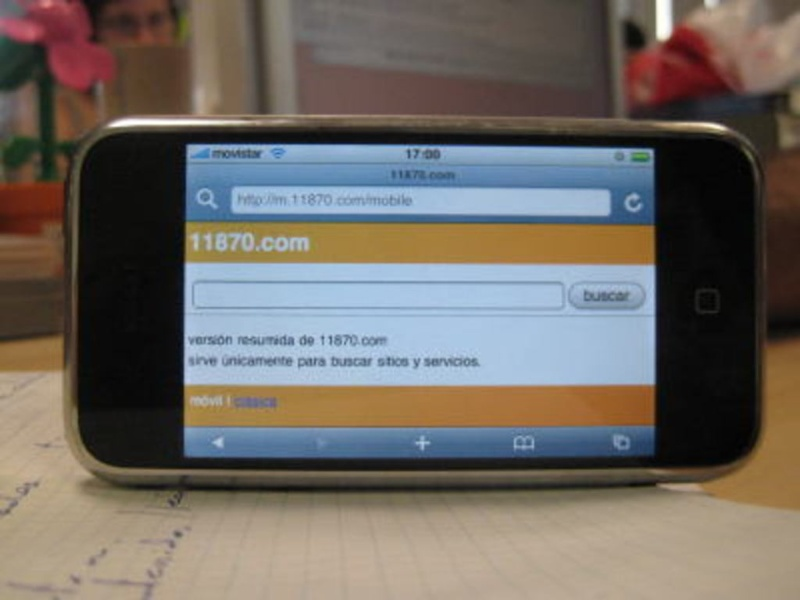cellphone: (51, 109, 771, 497)
